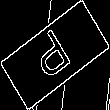P_SE: (29, 24, 81, 86)
